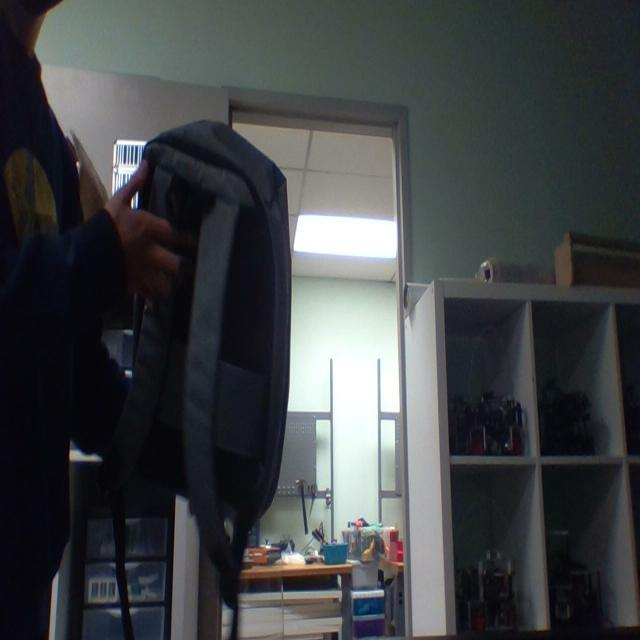Backpacks: (109, 112, 288, 526)
